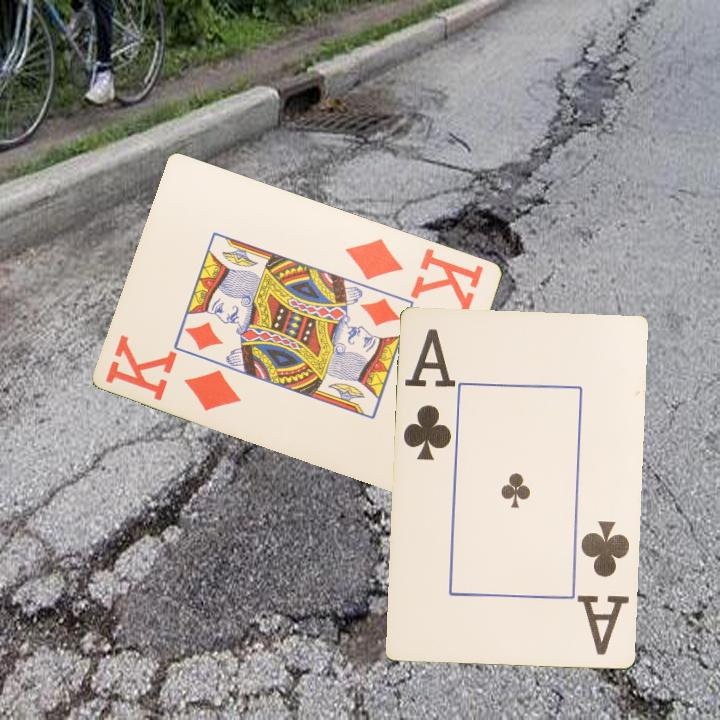Ac: (400, 325, 458, 464), (576, 517, 633, 658)
Kd: (342, 234, 487, 317), (102, 332, 245, 414)
